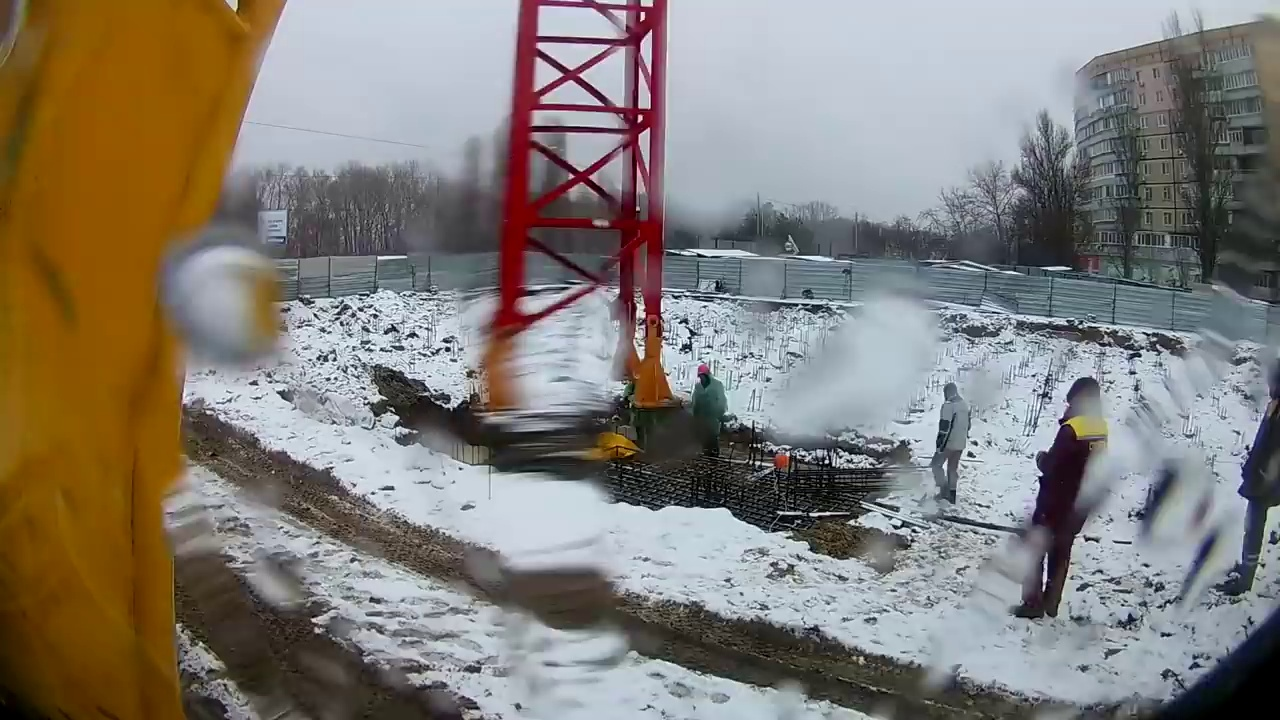helmet: (772, 454, 793, 470), (698, 366, 710, 377)
helmet-off: (1068, 376, 1102, 419), (943, 383, 957, 401), (697, 366, 710, 383)
person: (1011, 376, 1110, 620), (1222, 358, 1280, 601), (931, 383, 971, 506), (689, 365, 727, 461)
